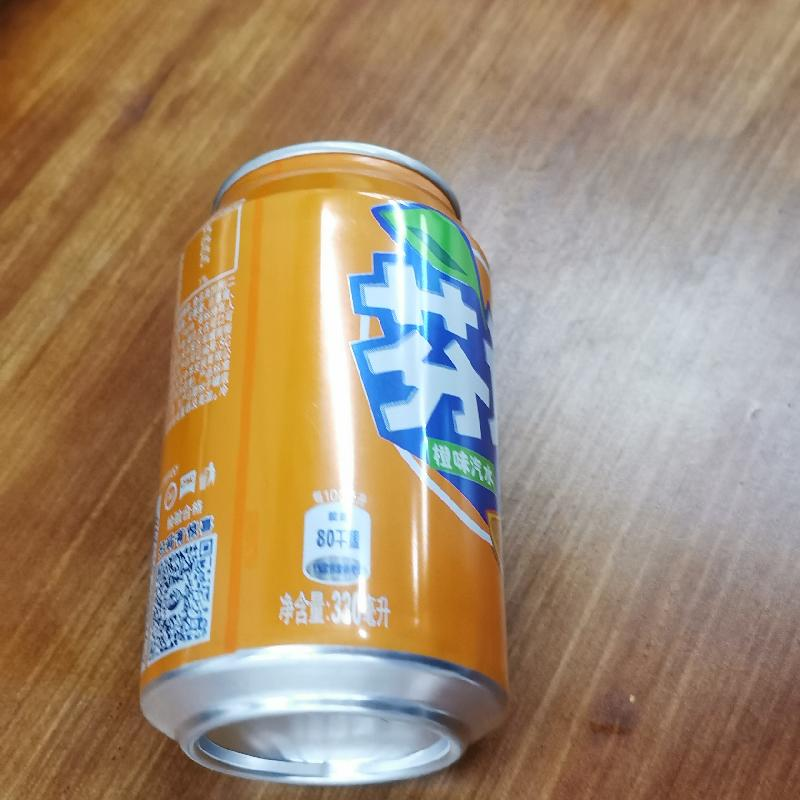cans: (137, 143, 519, 800)
